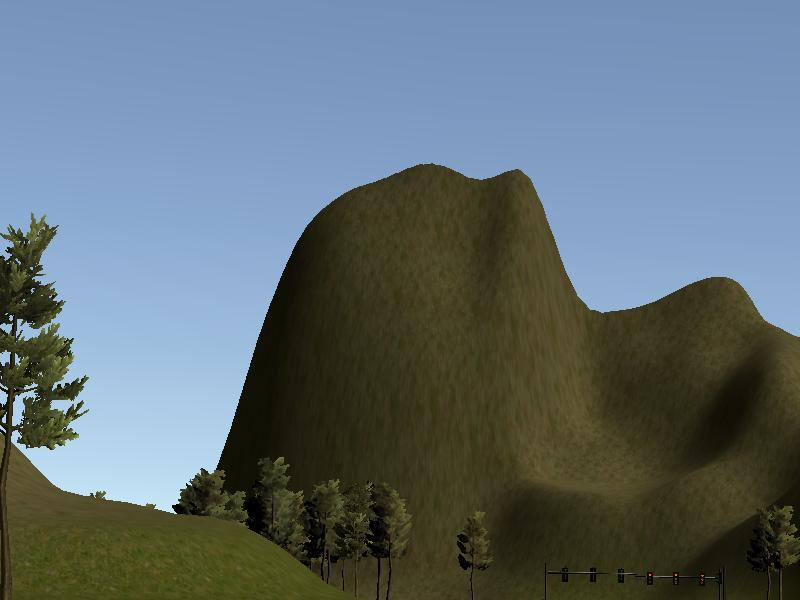Red: (671, 571, 680, 587), (645, 571, 653, 587), (698, 571, 706, 587)
